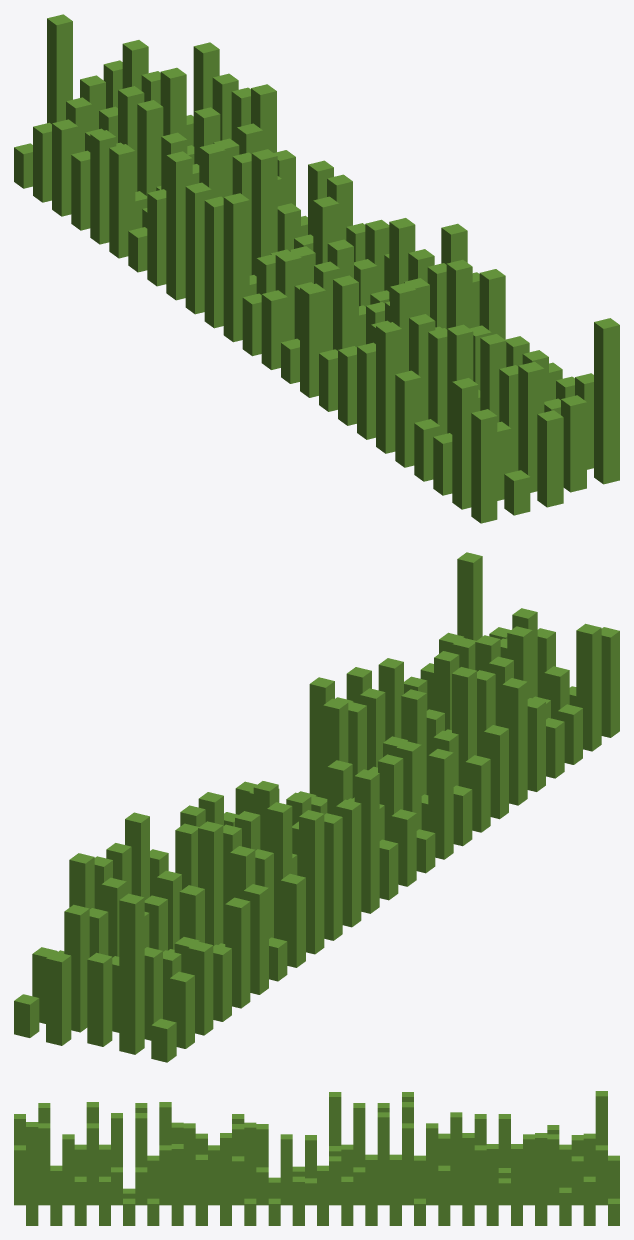
Rendered from Plants-1-Grass .1.obj.
3 views of the same model, one above another, from view 1: azimuth 30°, elevation 25°; view 2: azimuth 150°, elevation 25°; view 3: azimuth 270°, elevation 25° (orthographic). The views are drawn at different scales.
Visible parts, largest first — view 1: Grass; view 2: Grass; view 3: Grass.
Boxes of the visible parts, box(x1,y1,x2,y2) form: Grass: box(14, 14, 619, 523); Grass: box(14, 552, 619, 1062); Grass: box(14, 1091, 619, 1225).
Bounding box in the file's own units: 0.9 × 0.9 × 5.
Materials: 1 (1 with a texture image).
